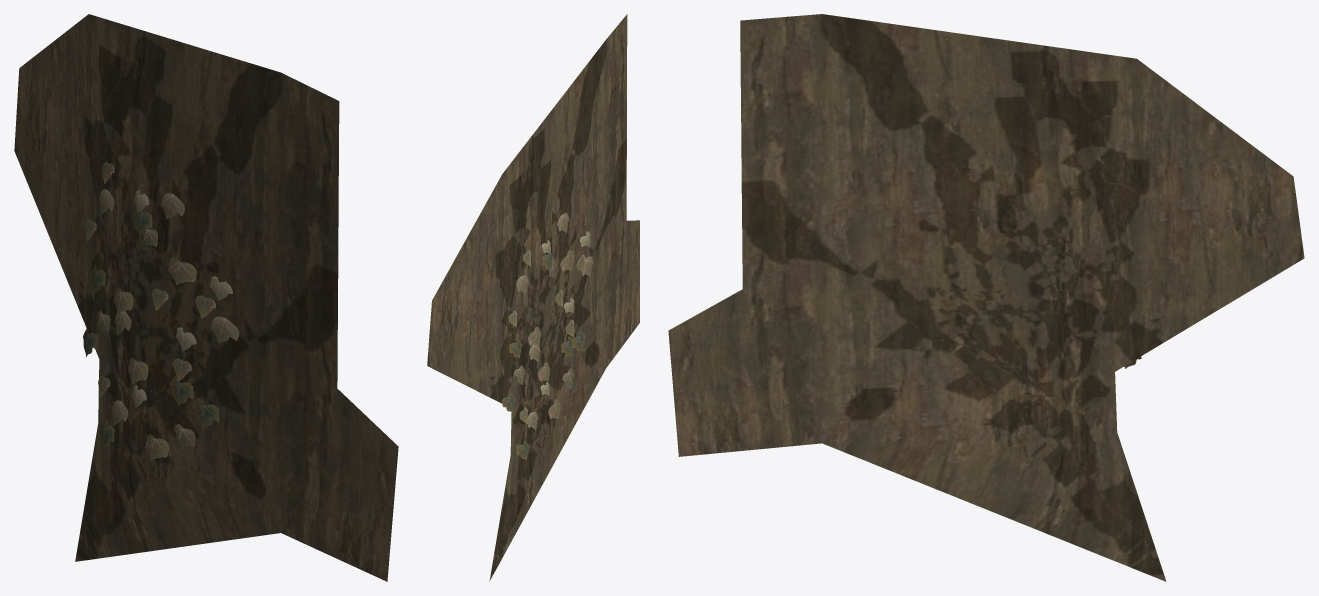
The model's file is SM_Ivy_2.fbx.
The picture shows the model from 3 angles, left to right: view 1: azimuth 30°, elevation 25°; view 2: azimuth 150°, elevation 25°; view 3: azimuth 270°, elevation 25°; orthographic projection. The views are drawn at different scales.
Parts seen in each view (by area): view 1: SM_Ivy_2_LOD0; view 2: SM_Ivy_2_LOD0; view 3: SM_Ivy_2_LOD0.
Boxes of the visible parts, bbox=[...] form: SM_Ivy_2_LOD0: bbox=[14, 14, 398, 581]; SM_Ivy_2_LOD0: bbox=[427, 14, 639, 581]; SM_Ivy_2_LOD0: bbox=[668, 14, 1304, 581].
Size of the model in its own units: 27.36 by 227 by 228.
